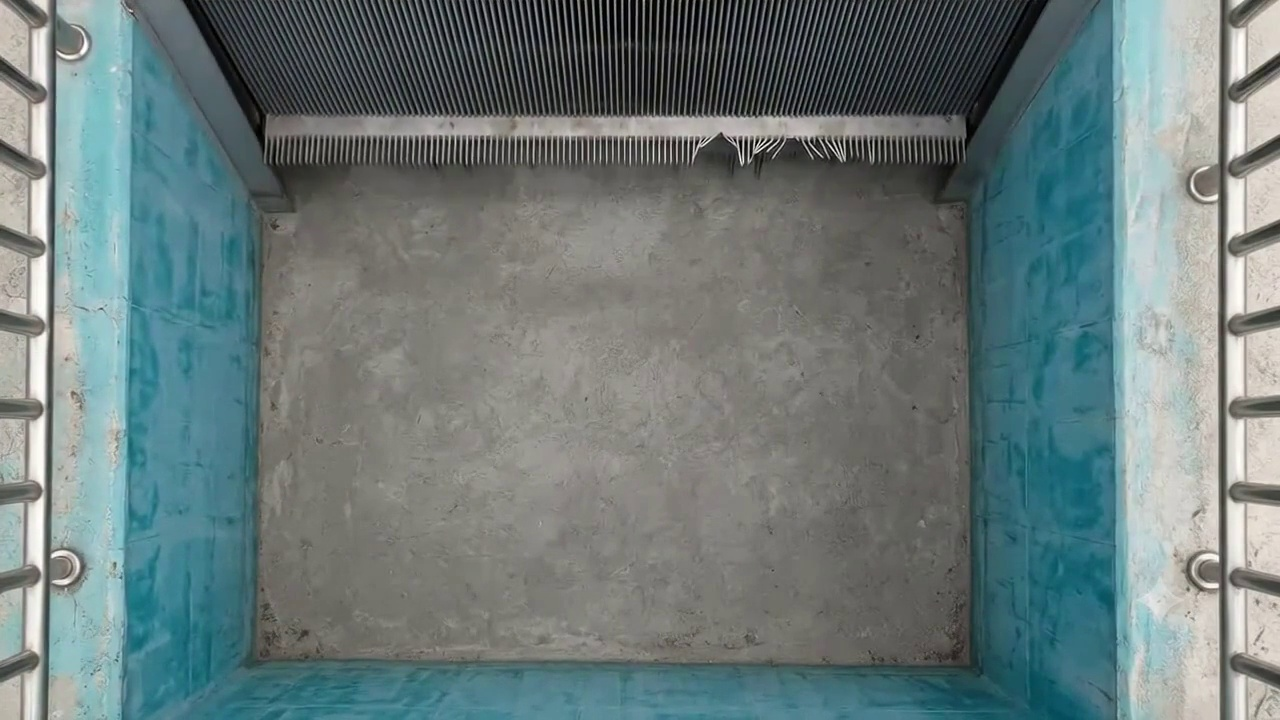damage: (679, 119, 853, 171)
